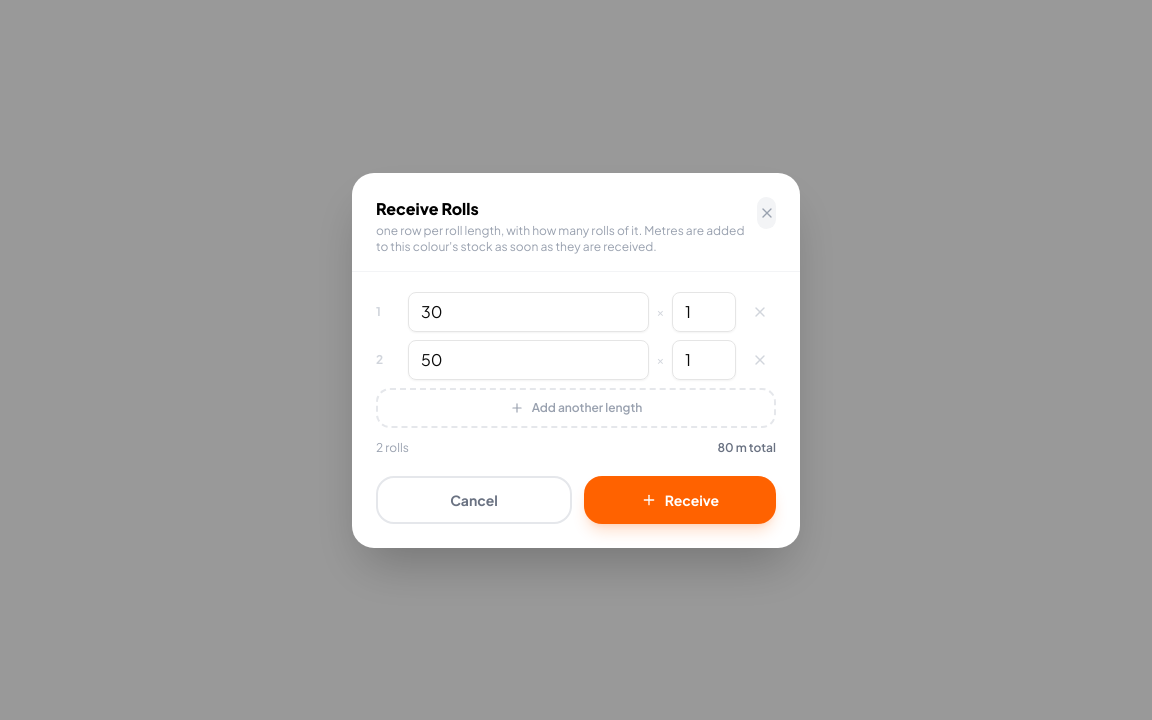
Test: ReceiveRollsDialog › removes a row but never the last one
Click the button named "remove roll 1" at [760, 312], box [744,296,776,328]
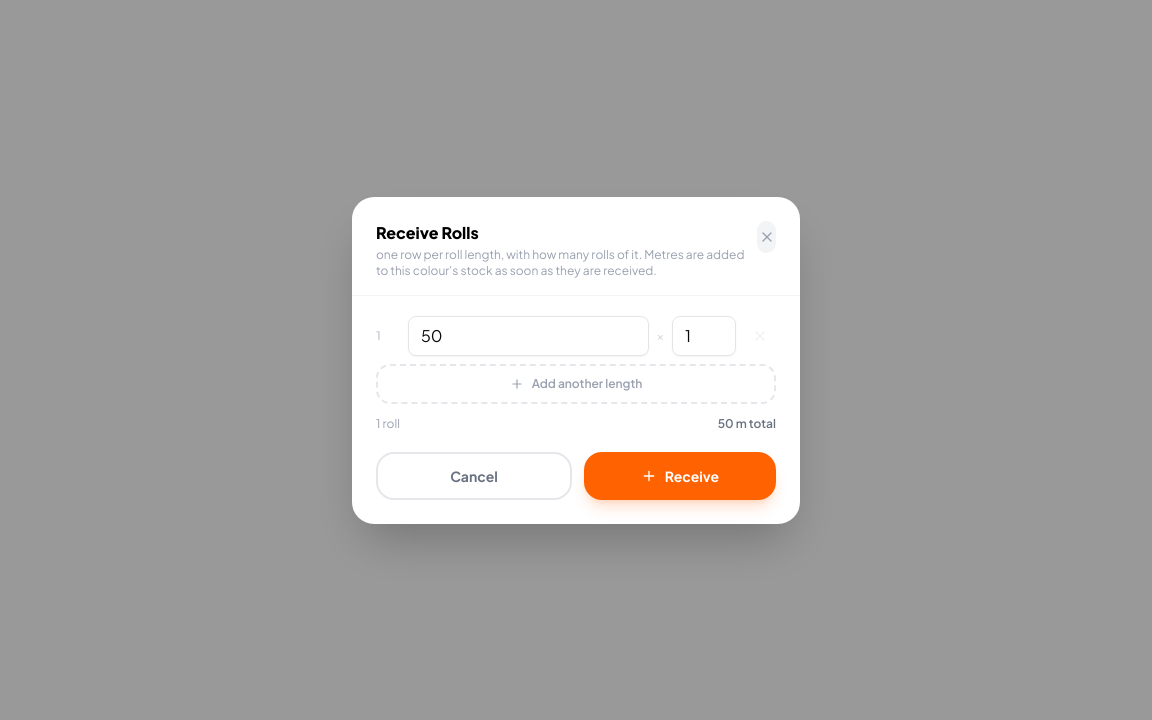
Result: the number field named "Roll 1 metres" holds "50" at [408,316,649,356]
